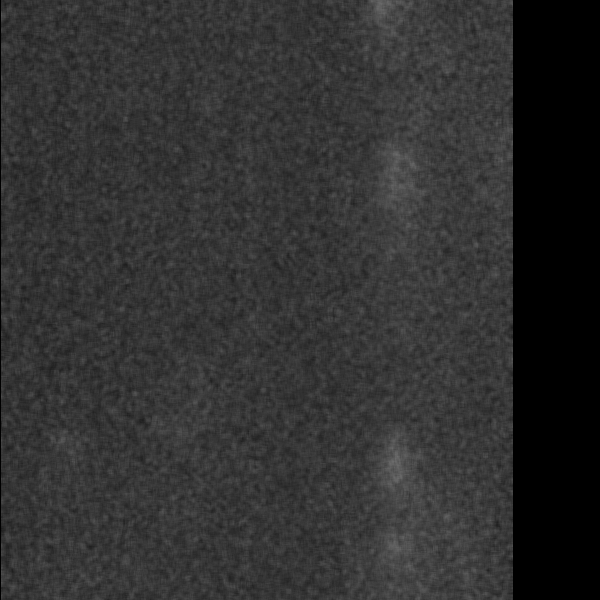spark: (368, 469, 424, 583), (374, 425, 419, 508), (374, 145, 409, 209), (371, 535, 421, 562), (391, 560, 417, 582)
